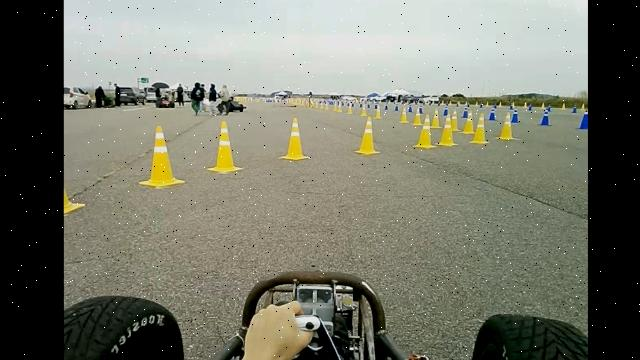yellow cone: (139, 125, 185, 188), (206, 120, 244, 173), (279, 116, 311, 161), (353, 116, 381, 155), (413, 113, 437, 149), (436, 112, 458, 146), (496, 111, 520, 140), (469, 112, 490, 144)
